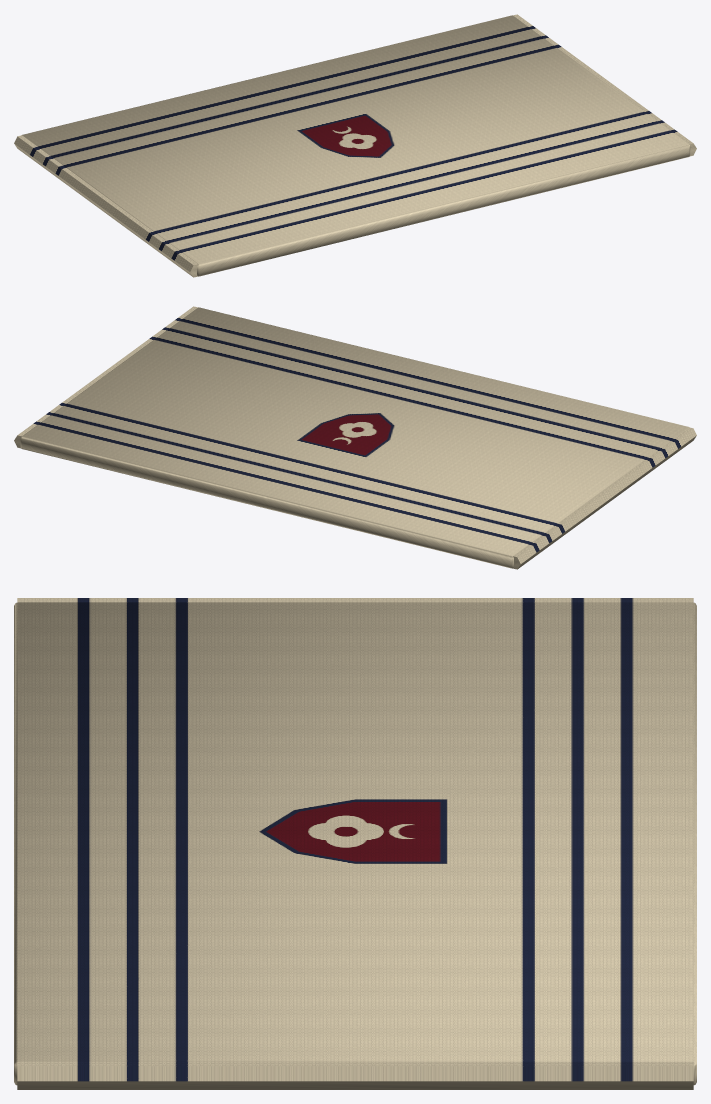
The model's file is BathMat.fbx.
3 views of the same model, one above another, from view 1: azimuth 30°, elevation 25°; view 2: azimuth 150°, elevation 25°; view 3: azimuth 270°, elevation 25° (orthographic). The views are drawn at different scales.
Parts seen in each view (by area): view 1: BathMat; view 2: BathMat; view 3: BathMat.
Boxes of the visible parts, left/top/right/bottom form: BathMat: left=14, top=14, right=696, bottom=277; BathMat: left=14, top=306, right=696, bottom=569; BathMat: left=14, top=598, right=696, bottom=1089.
Bounding box in the file's own units: 329 × 8 × 200.
